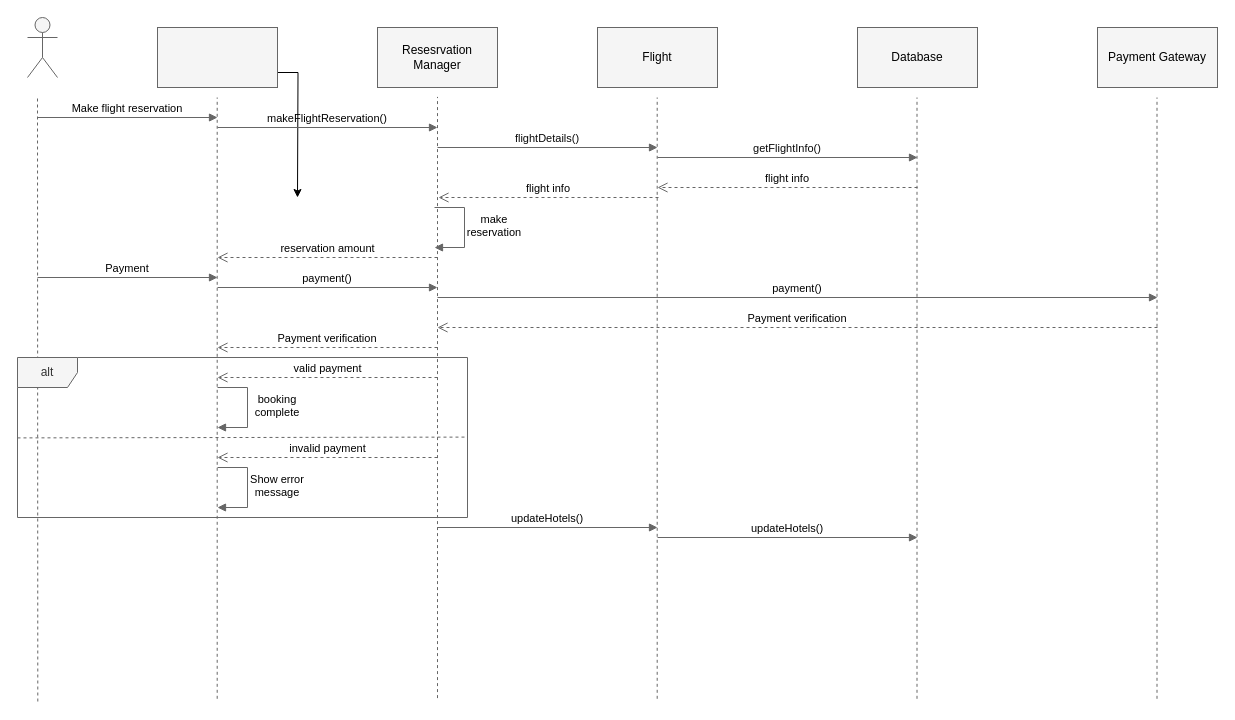
This 1235x720 diagram has some shape labels left out. The shapes that lost their labels are listed below. From the top down, each one's centre as x and y in pixels, then its label:
the point at 42,47: User
the point at 217,57: GUI
